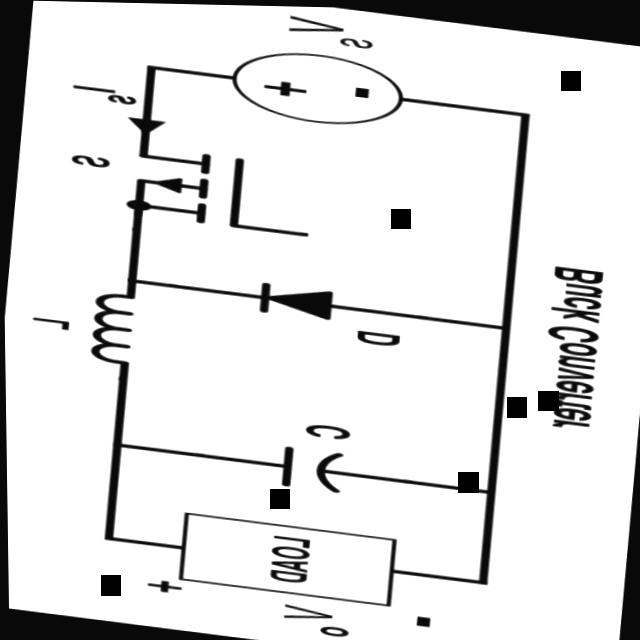capacitor: (252, 434, 362, 499)
diode: (232, 268, 351, 326)
inductor: (67, 283, 166, 372)
mosfet: (97, 131, 317, 246)
node: (108, 191, 160, 215)
resistor: (155, 506, 402, 609)
source: (219, 34, 425, 143)
